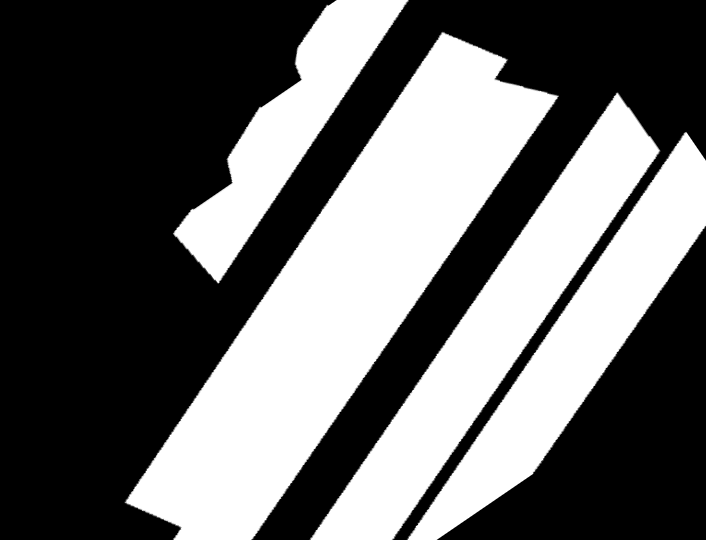parkingspot: (125, 32, 559, 540), (310, 93, 660, 540), (408, 132, 706, 540), (173, 0, 409, 283)
